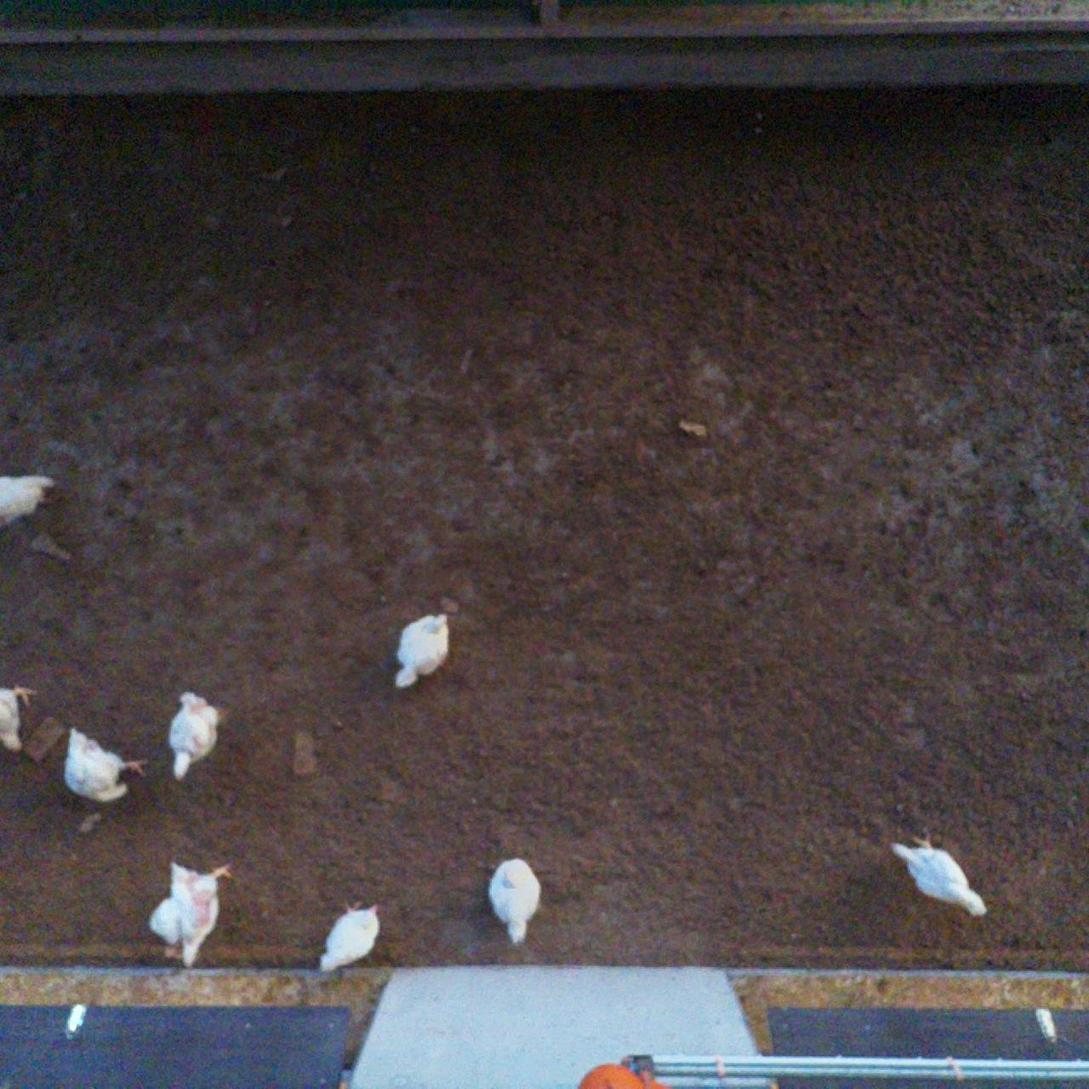chicken: (144, 855, 244, 973), (885, 824, 992, 925), (61, 724, 149, 807), (164, 686, 232, 785), (483, 852, 546, 950), (316, 892, 387, 978), (388, 610, 455, 695), (0, 470, 58, 536), (0, 680, 45, 765)
